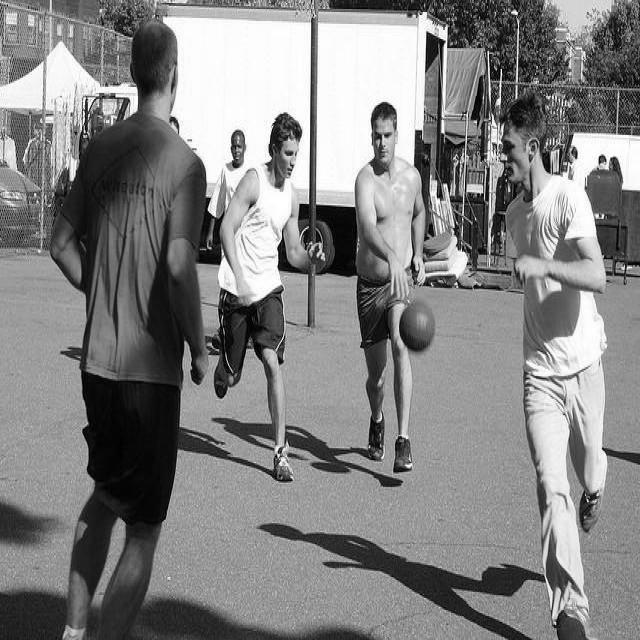vehicle: (164, 8, 464, 290), (0, 168, 40, 248)
